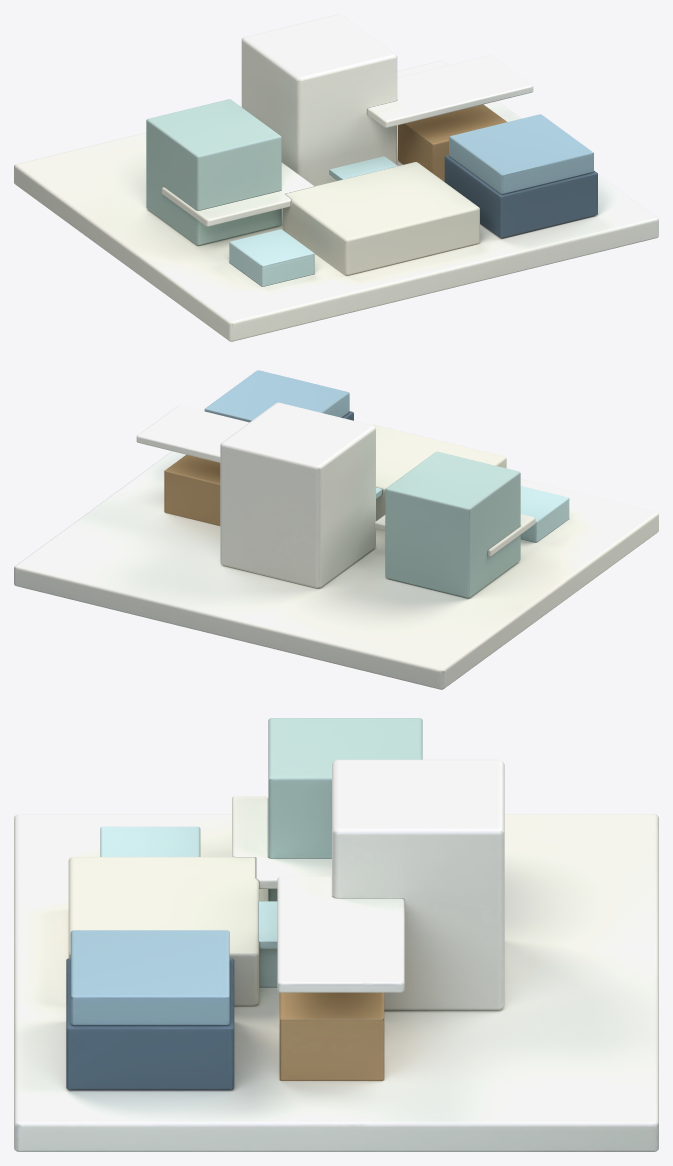
The model's file is architecture-baked.glb.
3 renders of one model, top to bottom at view 1: azimuth 30°, elevation 25°; view 2: azimuth 150°, elevation 25°; view 3: azimuth 270°, elevation 25°, orthographic. The views are drawn at different scales.
Visible parts, largest first — view 1: Mineral plinth, Rear mineral tower, Front mineral podium, Left frosted tower, Smoked glass cap, Graphite base, Main cantilever slab, Copper anchor, Left clear volume, Low mineral shelf, Clear bridge; view 2: Mineral plinth, Rear mineral tower, Left frosted tower, Smoked glass cap, Main cantilever slab, Front mineral podium, Copper anchor, Left clear volume, Low mineral shelf; view 3: Mineral plinth, Rear mineral tower, Front mineral podium, Smoked glass cap, Main cantilever slab, Left frosted tower, Graphite base, Copper anchor, Low mineral shelf, Left clear volume, Clear bridge, Center clear fin.
Part boxes in pixels (x1,y1,x2,y2): Mineral plinth: (14,60,658,341); Rear mineral tower: (241,14,397,186); Front mineral podium: (283,162,479,275); Left frosted tower: (146,99,281,245); Smoked glass cap: (449,114,593,194); Graphite base: (444,155,597,238); Main cantilever slab: (367,55,533,127); Copper anchor: (398,104,506,181); Left clear volume: (229,229,314,286); Low mineral shelf: (162,162,314,226); Clear bridge: (329,156,397,180); Mineral plinth: (14,451,658,689); Rear mineral tower: (220,402,375,588); Left frosted tower: (385,451,520,597); Smoked glass cap: (204,370,349,422); Main cantilever slab: (136,405,249,462); Front mineral podium: (372,424,506,520); Copper anchor: (164,454,220,525); Left clear volume: (520,486,569,542); Low mineral shelf: (374,514,535,556); Mineral plinth: (14,814,658,1151); Rear mineral tower: (332,759,504,1010); Front mineral podium: (68,857,259,1005); Smoked glass cap: (70,930,229,1025); Main cantilever slab: (277,876,404,992); Left frosted tower: (268,718,422,901); Graphite base: (66,958,234,1089); Copper anchor: (279,992,384,1080); Low mineral shelf: (232,796,331,888); Left clear volume: (100,826,200,856); Clear bridge: (258,901,277,948); Center clear fin: (259,949,277,987).
Bounding box in the file's own units: 3.32 × 1.05 × 2.91.
Materials: 1 (1 with a texture image).
